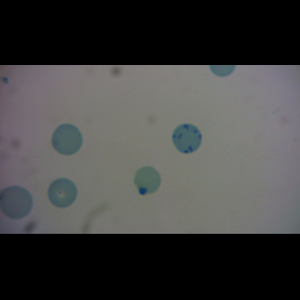aggregate reticulocyte: (171, 123, 203, 154)
erythrocyte: (1, 184, 35, 220), (50, 123, 84, 156), (47, 177, 79, 209), (133, 165, 163, 196)
